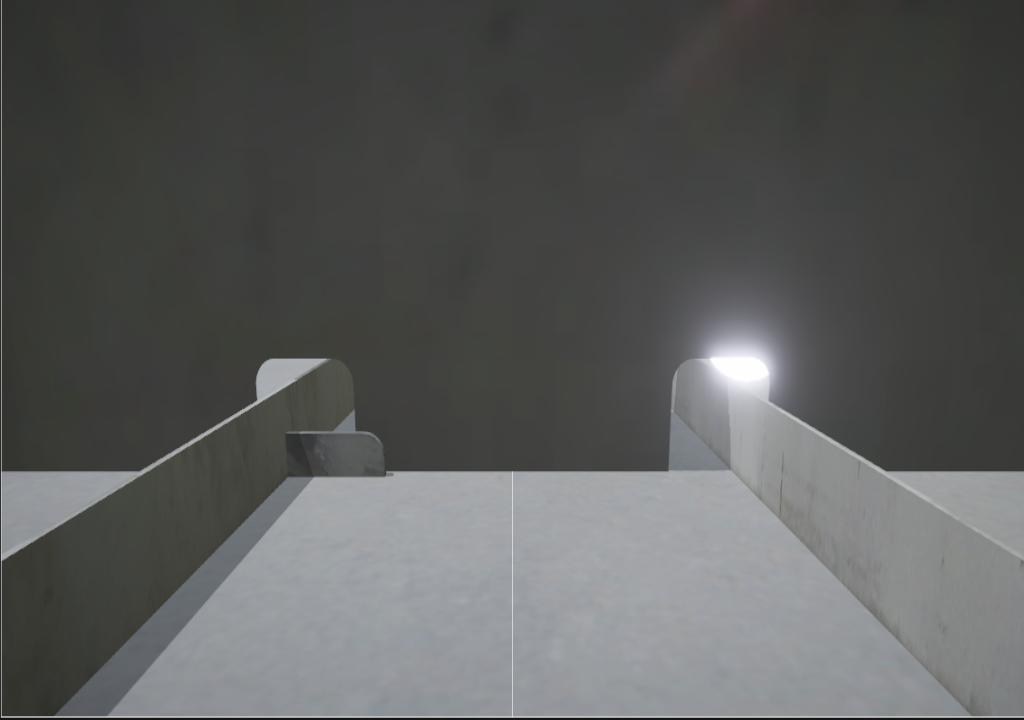fillet_yong_jeop_jang: (387, 464, 680, 475)
plate_CP05: (287, 429, 390, 477)
